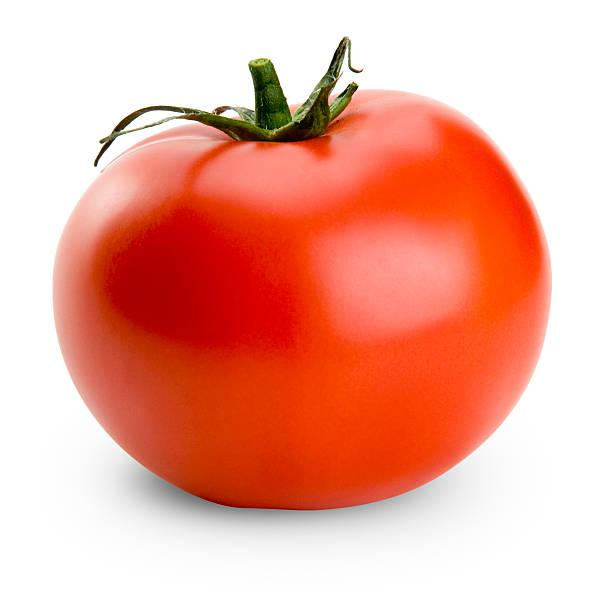Tomato: (45, 55, 552, 504)
